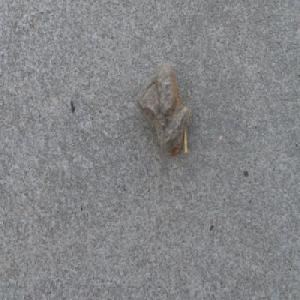Rock: (135, 60, 190, 159)
